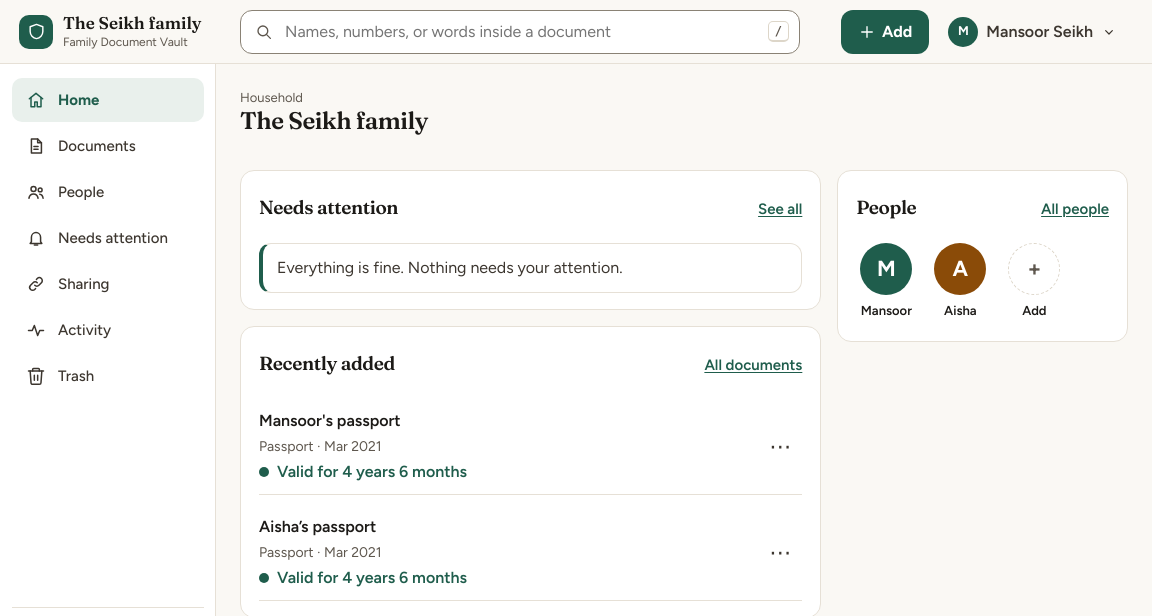
Test: a person's profile (5.17c) › the documents screen goes back to where it came from, and About Aisha opens the profile
This screenshot has width=1152, height=616.
// From Home: back to Home.
What coordinates should you click on to do the following:
click the link with aria-label "Aisha Khan’s documents"
I would click on:
 (960, 282)
Its box is [930,243,990,321].
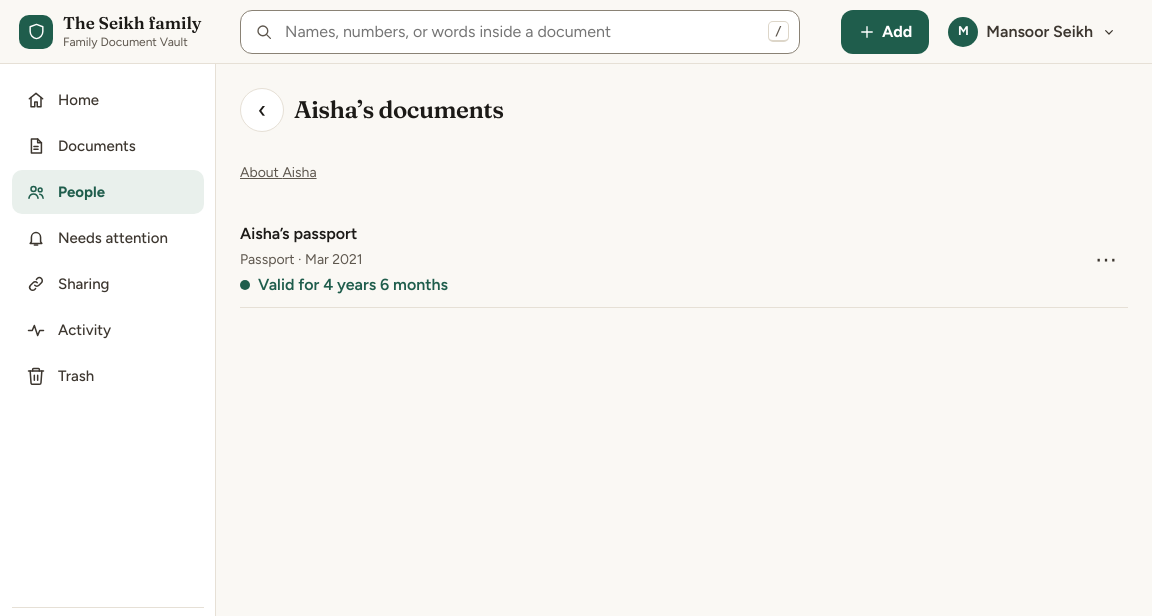
Expected: the heading "Aisha’s documents" is shown, [294,95,503,124]
// About Aisha: her profile.
What coordinates should you click on to do the following:
click the link "About Aisha"
I would click on:
 (278, 172)
Its box is [240,164,317,180].
(page scrolled)
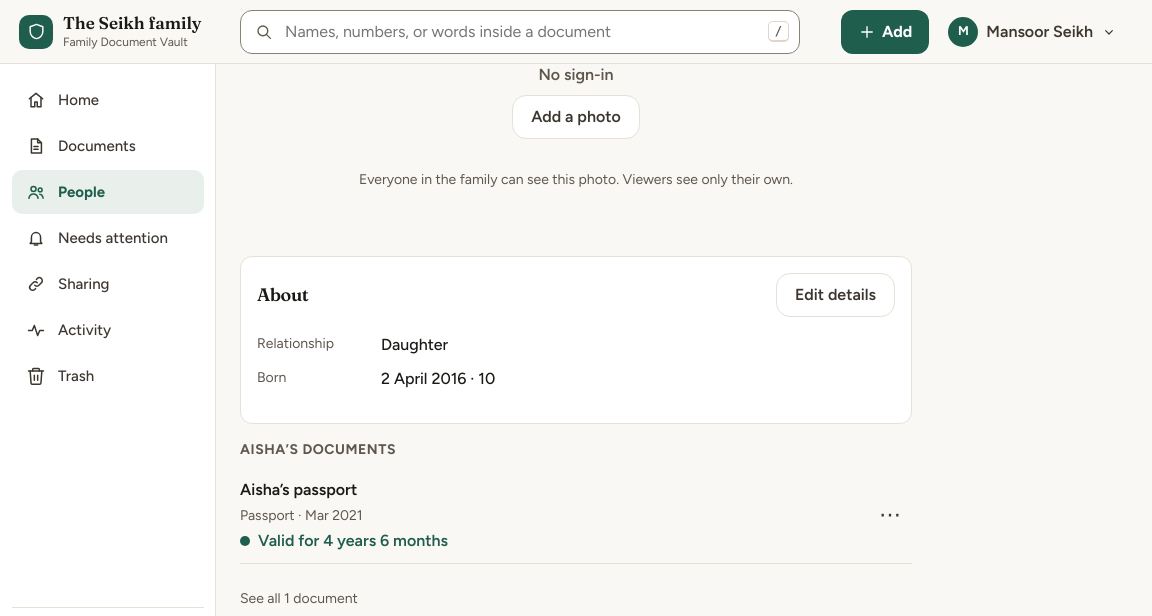
// From her profile: back to her profile.
What coordinates should you click on to do the following:
click the link "See all 1 document"
I would click on:
 (299, 598)
Its box is [240,588,358,609].
(page scrolled)
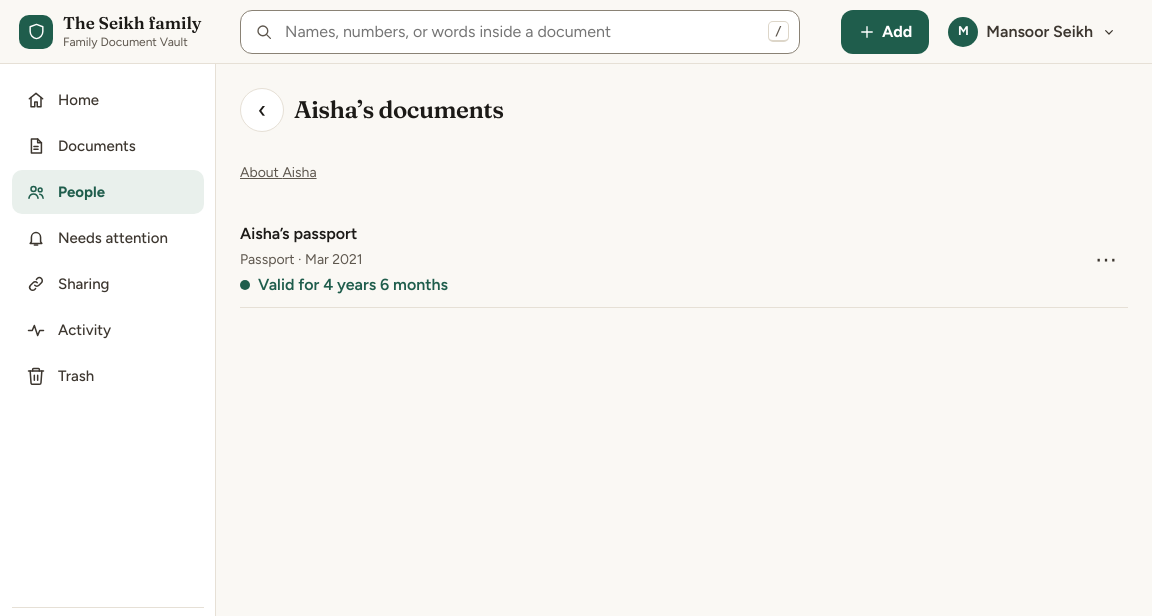
Expected: the heading "Aisha’s documents" is shown, [294,95,503,124]
What coordinates should you click on to do the following:
click the link named "Back"
I would click on:
 (262, 110)
Its box is [240,88,284,132].
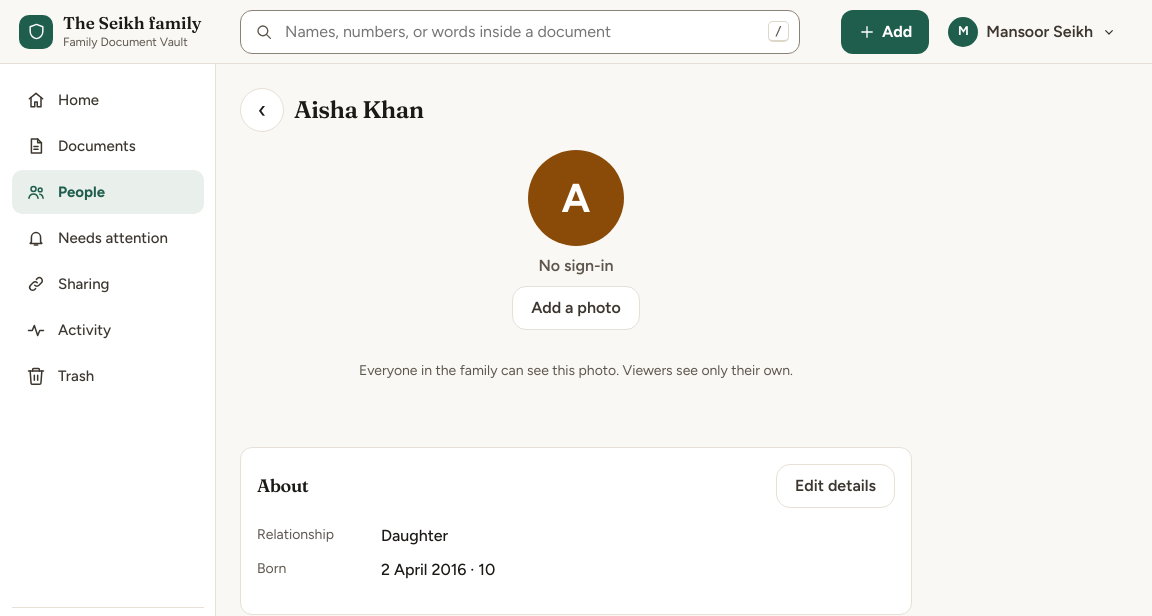
Expected: the heading "Aisha Khan" is shown, [294,95,424,124]
